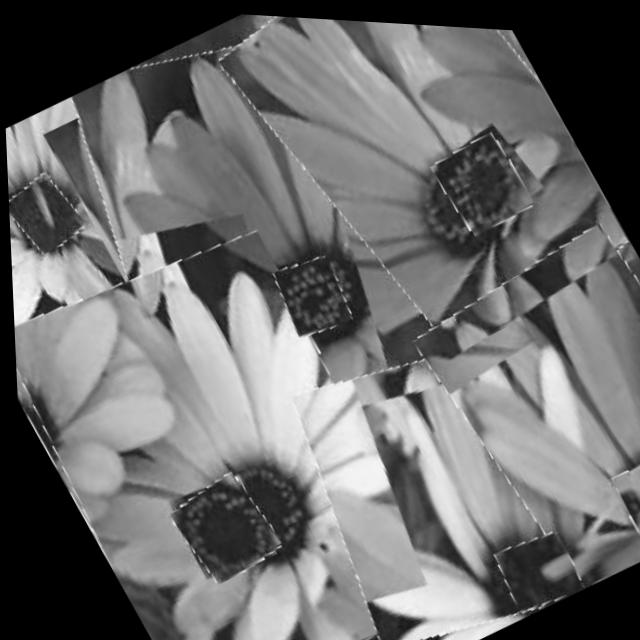Flower: (11, 1, 573, 522), (7, 204, 453, 640), (215, 10, 640, 385), (257, 268, 640, 640), (402, 202, 640, 594), (160, 463, 281, 587), (428, 121, 537, 235), (484, 516, 583, 612), (265, 244, 356, 340), (6, 167, 86, 259), (603, 437, 640, 542)
